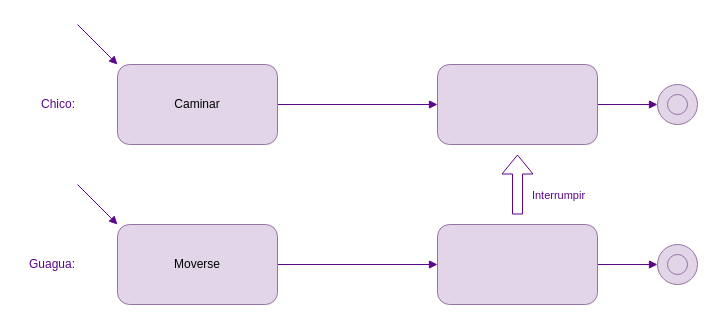
Image size: 715x322. Some labels were removed from this diagram. Each missing label, with the centre of its shape:
En parada: the point at 517,264
Usar el móvil: the point at 517,104
